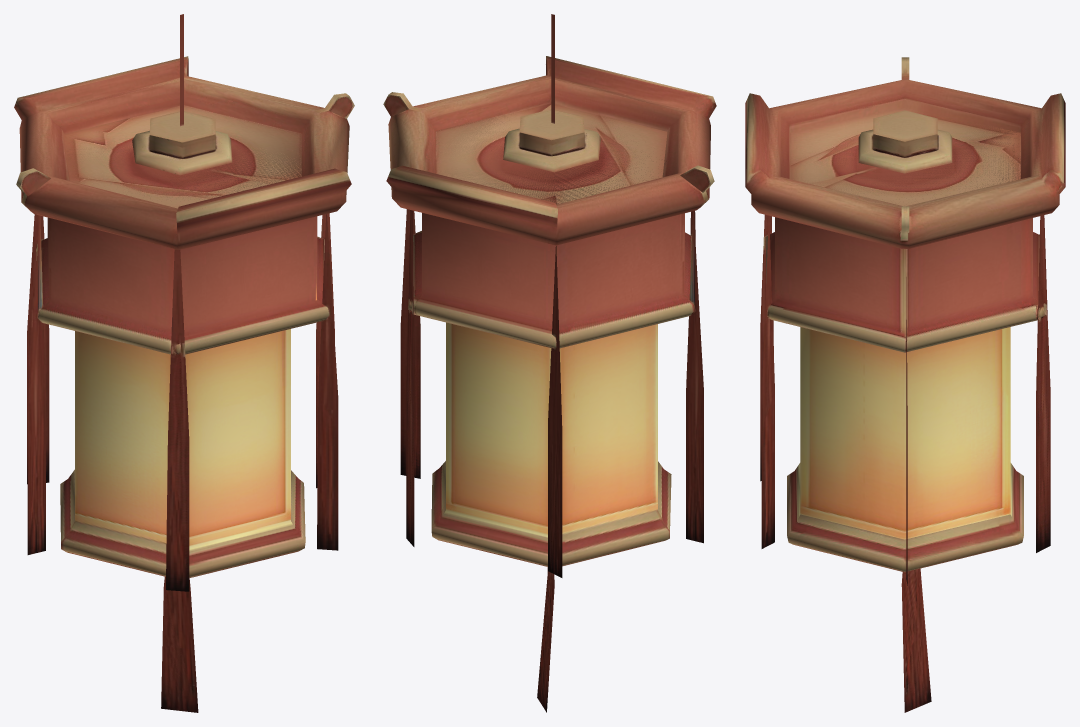
3 renders of one model, left to right at view 1: azimuth 30°, elevation 25°; view 2: azimuth 150°, elevation 25°; view 3: azimuth 270°, elevation 25°, orthographic. The views are drawn at different scales.
Visible parts, largest first — view 1: tripo_node_2009f9d6; view 2: tripo_node_2009f9d6; view 3: tripo_node_2009f9d6.
Part boxes in pixels (x1,y1,x2,y2): tripo_node_2009f9d6: (14, 14, 354, 712); tripo_node_2009f9d6: (383, 14, 716, 712); tripo_node_2009f9d6: (745, 57, 1065, 712).
Size of the model in its own units: 0.498 by 0.998 by 0.4199.
Materials: 1 (1 with a texture image).
